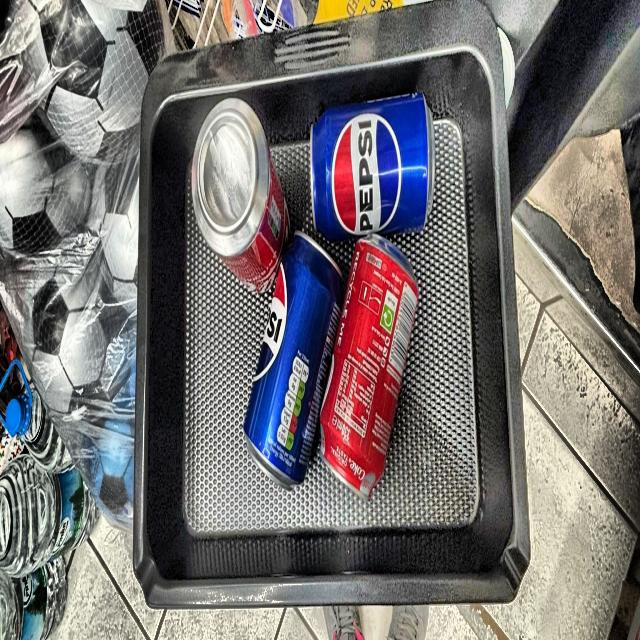coke-can: (326, 226, 414, 501), (193, 114, 284, 297)
pepsi-can: (249, 229, 334, 504), (309, 112, 441, 265)
